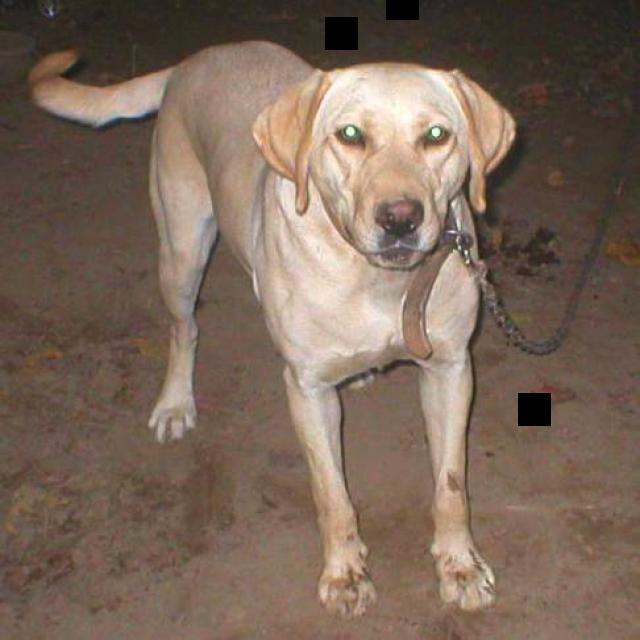adult_dog: (24, 39, 519, 620)
